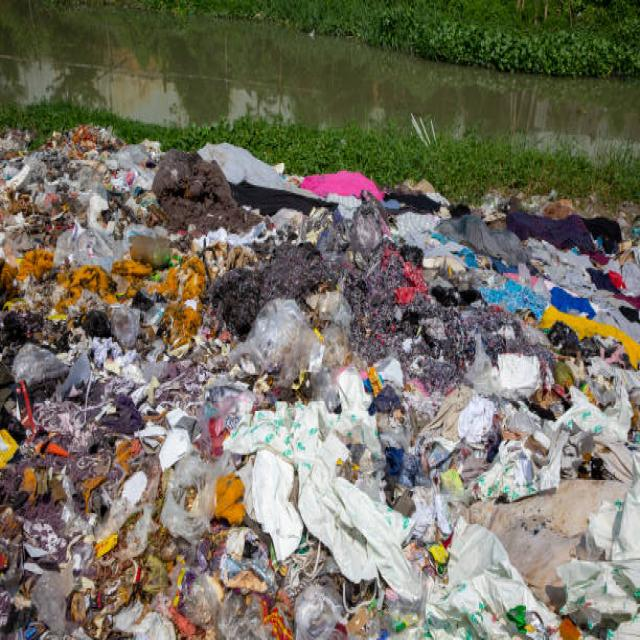trash: (22, 141, 610, 601)
